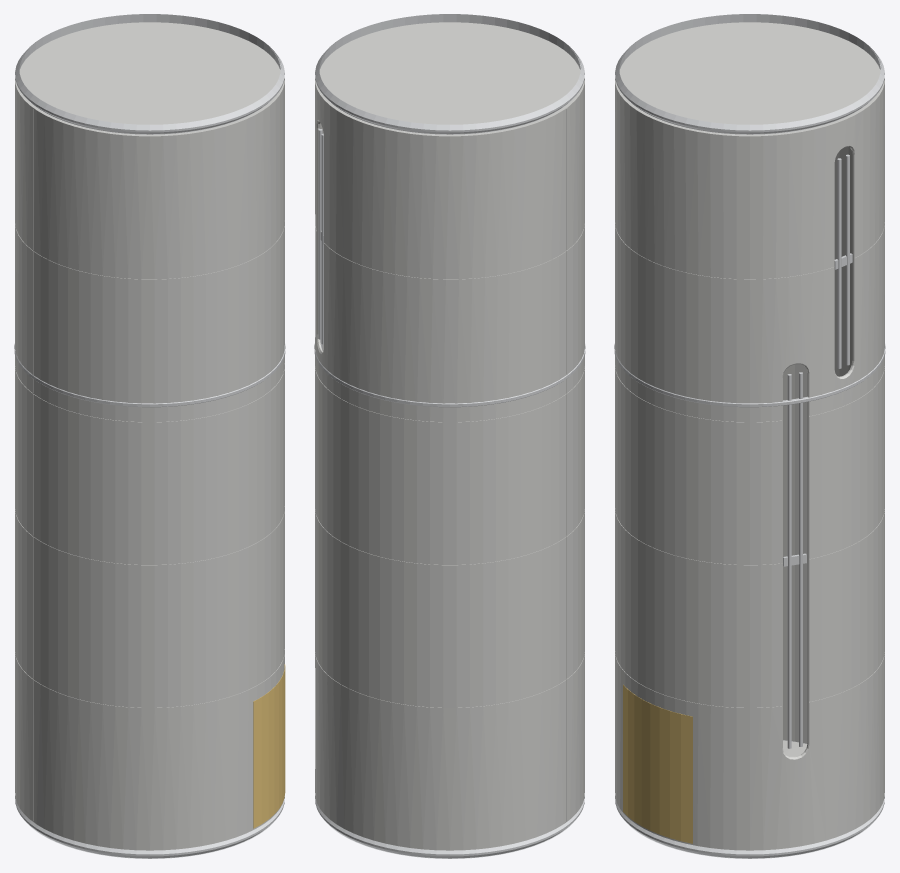
Rendered from ax_tank_03_heavy_methalox_xl_long.glb.
The picture shows the model from 3 angles, left to right: view 1: azimuth 30°, elevation 25°; view 2: azimuth 150°, elevation 25°; view 3: azimuth 270°, elevation 25°; orthographic projection.
Parts seen in each view (by area): view 1: tank_barrel, dome_caps, end_rings, mli_patch, common_bulkhead_ring; view 2: tank_barrel, dome_caps, end_rings, raceway_lines, common_bulkhead_ring; view 3: tank_barrel, dome_caps, mli_patch, end_rings, raceway_lines, common_bulkhead_ring.
Boxes of the visible parts, left/top/right/bottom form: tank_barrel: left=15, top=78, right=284, bottom=850; dome_caps: left=19, top=22, right=280, bottom=134; end_rings: left=15, top=14, right=284, bottom=858; mli_patch: left=253, top=664, right=285, bottom=828; common_bulkhead_ring: left=14, top=344, right=285, bottom=407; tank_barrel: left=315, top=78, right=584, bottom=850; dome_caps: left=319, top=22, right=580, bottom=134; end_rings: left=315, top=14, right=584, bottom=858; raceway_lines: left=318, top=129, right=324, bottom=349; common_bulkhead_ring: left=314, top=344, right=585, bottom=407; tank_barrel: left=615, top=78, right=884, bottom=850; dome_caps: left=619, top=22, right=880, bottom=756; mli_patch: left=623, top=684, right=692, bottom=843; end_rings: left=615, top=14, right=884, bottom=858; raceway_lines: left=783, top=154, right=852, bottom=748; common_bulkhead_ring: left=614, top=344, right=885, bottom=407.
Bounding box in the file's own units: 5.02 × 15 × 5.02.
